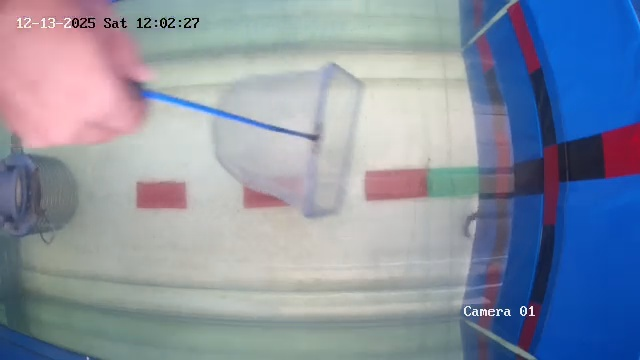fish: (461, 205, 490, 247)
